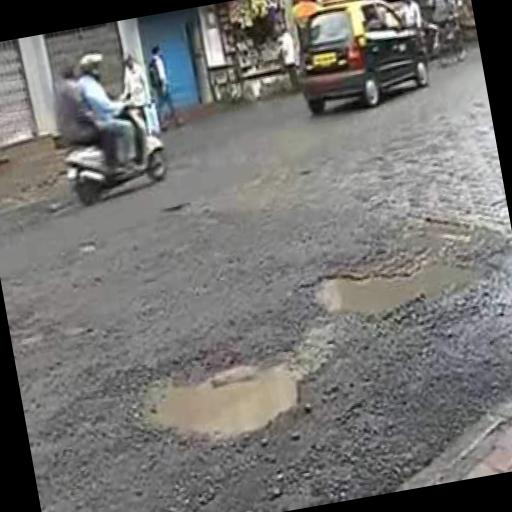pothole: (130, 335, 313, 447), (297, 238, 502, 324)
